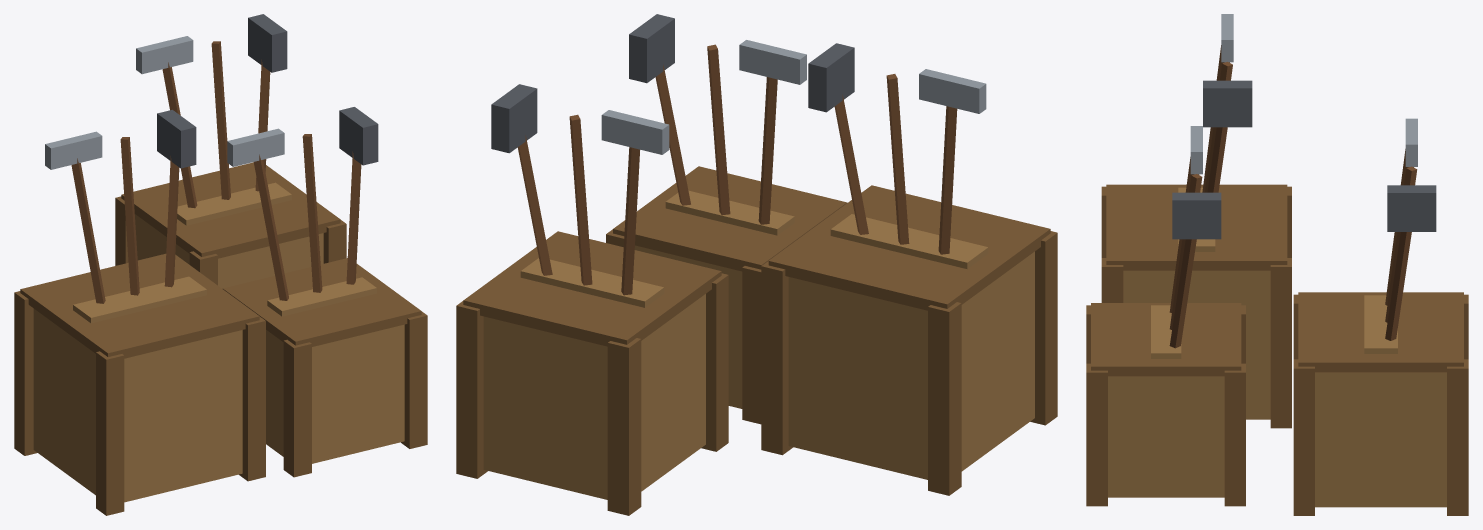
Rendered from pile_tools_1.glb.
3 renders of one model, left to right at view 1: azimuth 30°, elevation 25°; view 2: azimuth 150°, elevation 25°; view 3: azimuth 270°, elevation 25°, orthographic. The views are drawn at different scales.
Visible parts, largest first — view 1: pile_tools_1; view 2: pile_tools_1; view 3: pile_tools_1.
Boxes of the visible parts, x1,y1,x2,y2 form: pile_tools_1: (14, 14, 427, 515); pile_tools_1: (456, 14, 1057, 515); pile_tools_1: (1086, 14, 1468, 515).
Bounding box in the file's own units: 1.3 × 1.2 × 1.25.
